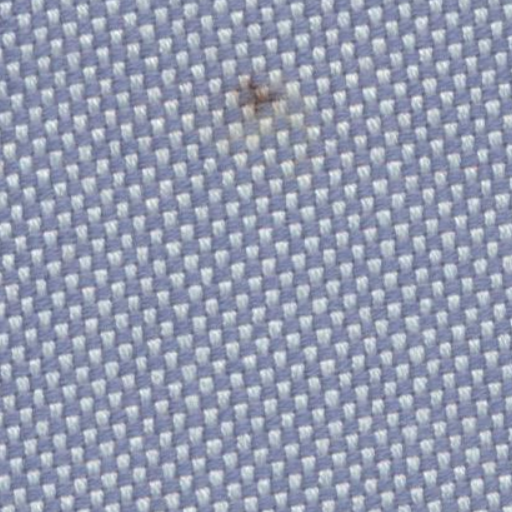WuZi: (200, 62, 332, 174)
